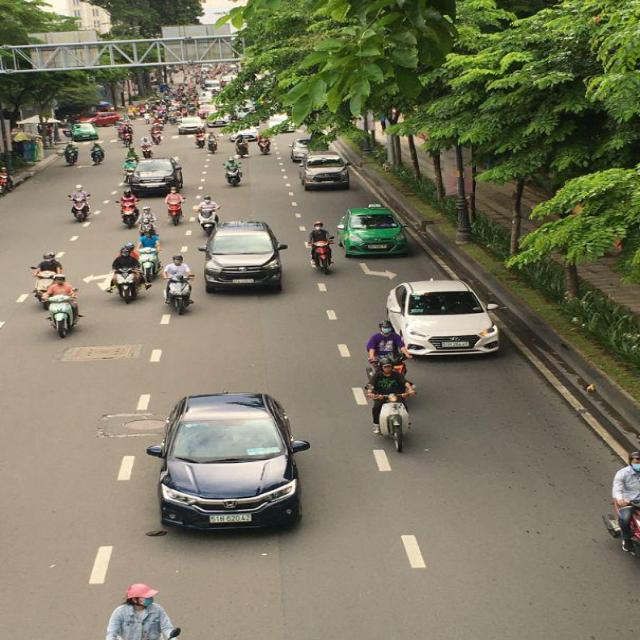car: (155, 391, 312, 533), (386, 280, 503, 358), (204, 220, 288, 296), (336, 204, 409, 256), (128, 157, 184, 197), (302, 153, 349, 192), (69, 123, 100, 141)
motorcycle: (601, 500, 640, 567), (374, 391, 412, 453), (42, 277, 78, 334), (109, 256, 143, 304), (164, 269, 197, 315), (307, 225, 334, 274), (48, 293, 75, 339), (195, 198, 224, 240), (138, 234, 161, 286), (120, 194, 140, 227), (72, 195, 92, 223), (224, 160, 243, 185)
